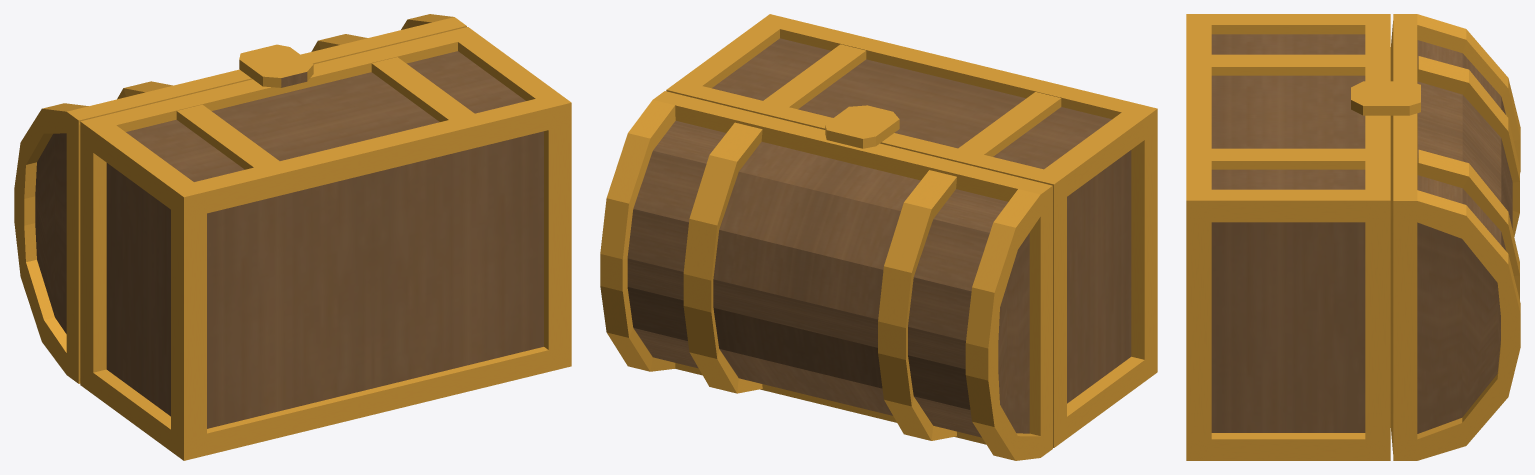
The model's file is goldbox.FBX.
3 renders of one model, left to right at view 1: azimuth 30°, elevation 25°; view 2: azimuth 150°, elevation 25°; view 3: azimuth 270°, elevation 25°, orthographic.
Visible parts, largest first — view 1: Cube.228; view 2: Cube.228; view 3: Cube.228.
Boxes of the visible parts, x1,y1,x2,y2 form: Cube.228: (14,14,571,460); Cube.228: (600,14,1157,460); Cube.228: (1186,14,1520,460).
Size of the model in its own units: 115 by 78.61 by 87.03.
